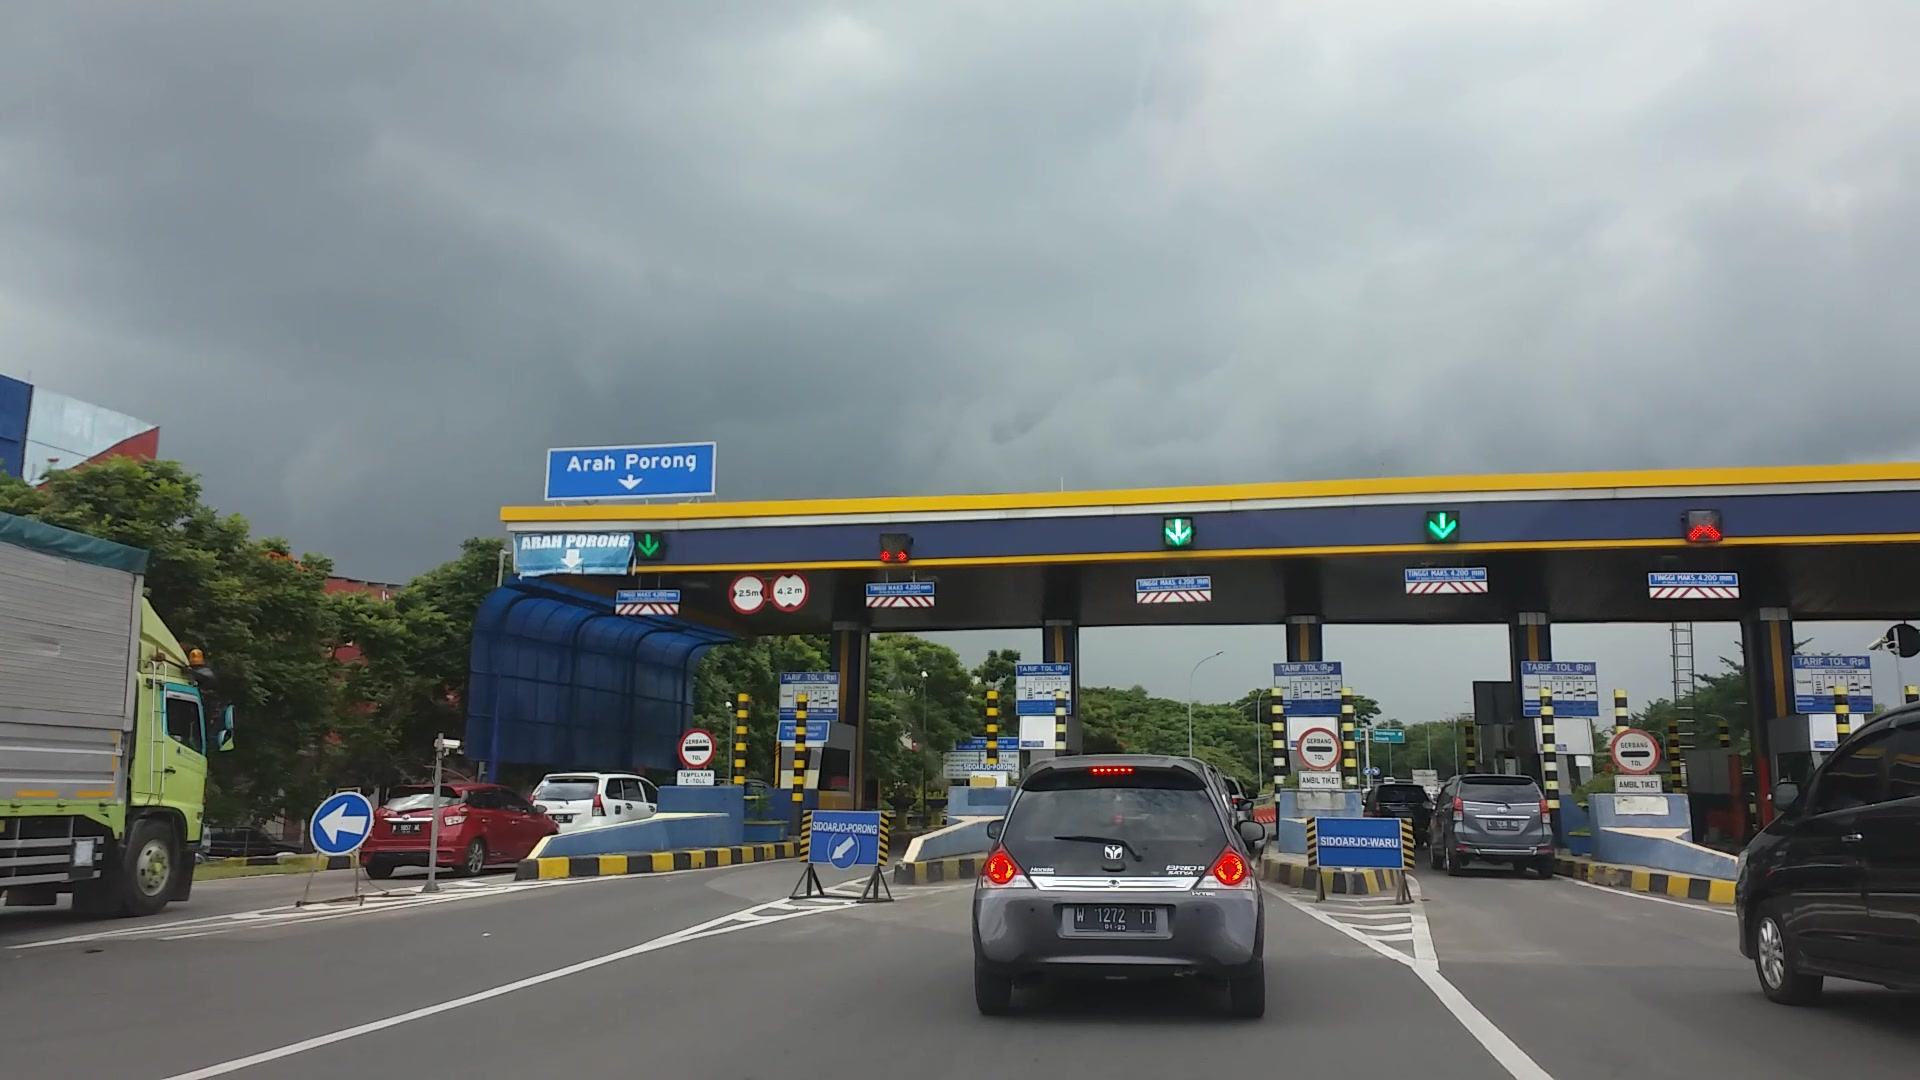plate_positive: (1073, 903, 1156, 932)
